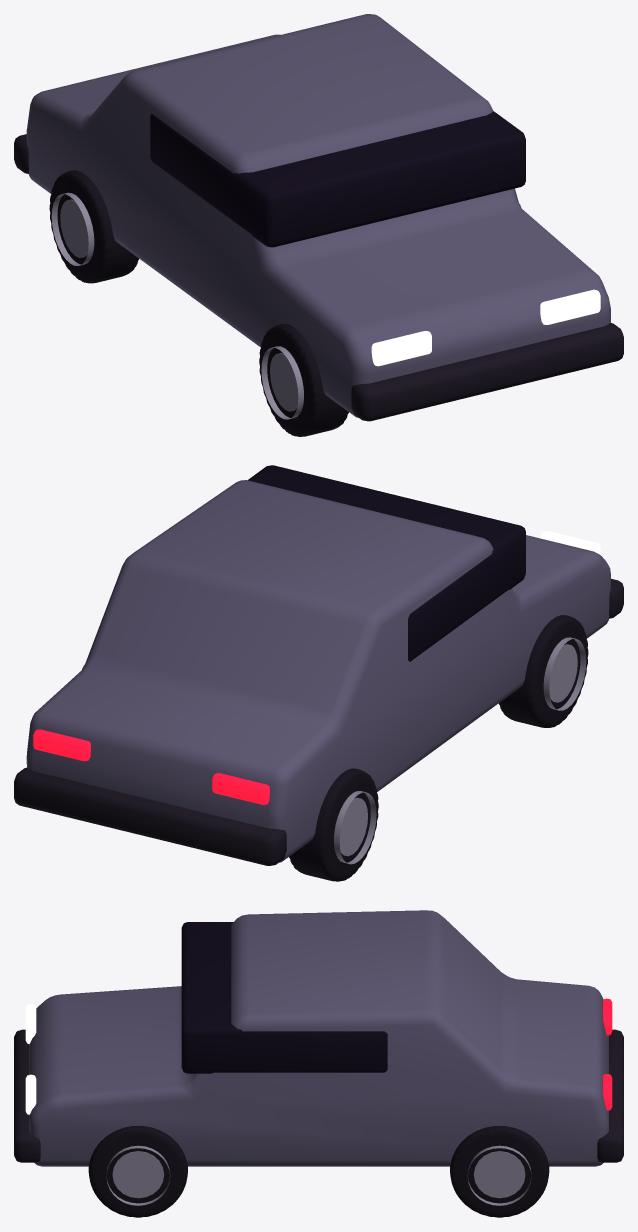
File: car.glb
3 views of the same model, one above another, from view 1: azimuth 30°, elevation 25°; view 2: azimuth 150°, elevation 25°; view 3: azimuth 270°, elevation 25° (orthographic). The views are drawn at different scales.
Visible parts, largest first — view 1: car_body, car_details, wheel_rl_tire.001, wheel_fl_tire.001; view 2: car_body, car_details, wheel_rl_tire.001, wheel_fl_tire.001; view 3: car_body, car_details, wheel_fr_tire.001, wheel_rr_tire.001.
Part boxes in pixels (left/top/right/bottom): car_body: left=26, top=14, right=610, bottom=417; car_details: left=14, top=111, right=623, bottom=421; wheel_rl_tire.001: left=49, top=170, right=138, bottom=283; wheel_fl_tire.001: left=259, top=323, right=348, bottom=436; car_body: left=26, top=480, right=610, bottom=862; car_details: left=14, top=465, right=623, bottom=865; wheel_rl_tire.001: left=289, top=768, right=378, bottom=881; wheel_fl_tire.001: left=498, top=615, right=588, bottom=727; car_body: left=29, top=910, right=608, bottom=1166; car_details: left=14, top=922, right=623, bottom=1162; wheel_fr_tire.001: left=88, top=1125, right=187, bottom=1217; wheel_rr_tire.001: left=450, top=1125, right=549, bottom=1217.
Bounding box in the file's own units: 2.19 × 1.7 × 4.66.
